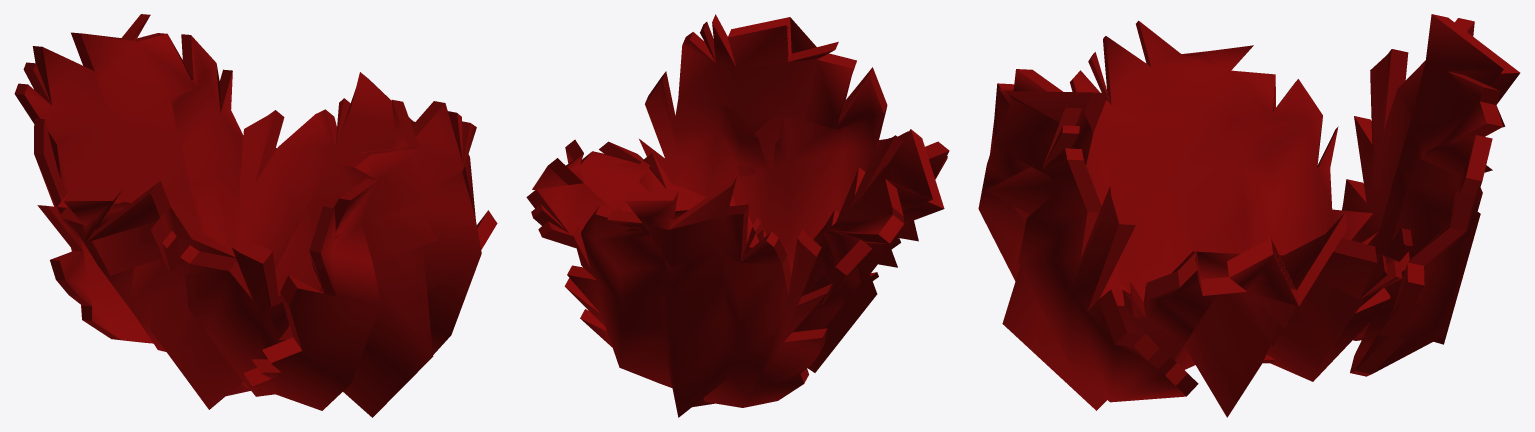
The model's file is Flower01.fbx.
3 renders of one model, left to right at view 1: azimuth 30°, elevation 25°; view 2: azimuth 150°, elevation 25°; view 3: azimuth 270°, elevation 25°, orthographic. The views are drawn at different scales.
Parts seen in each view (by area): view 1: pDisc17; view 2: pDisc17; view 3: pDisc17.
Boxes of the visible parts, box(x1,y1,x2,y2) form: pDisc17: box(14, 14, 497, 417); pDisc17: box(526, 14, 949, 417); pDisc17: box(978, 14, 1520, 417).
Size of the model in its own units: 381 by 289 by 414.
